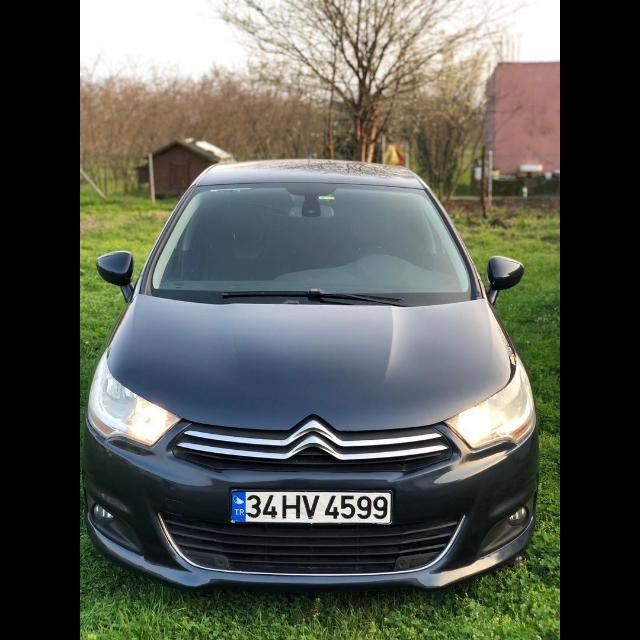Plaka: (231, 489, 391, 525)
